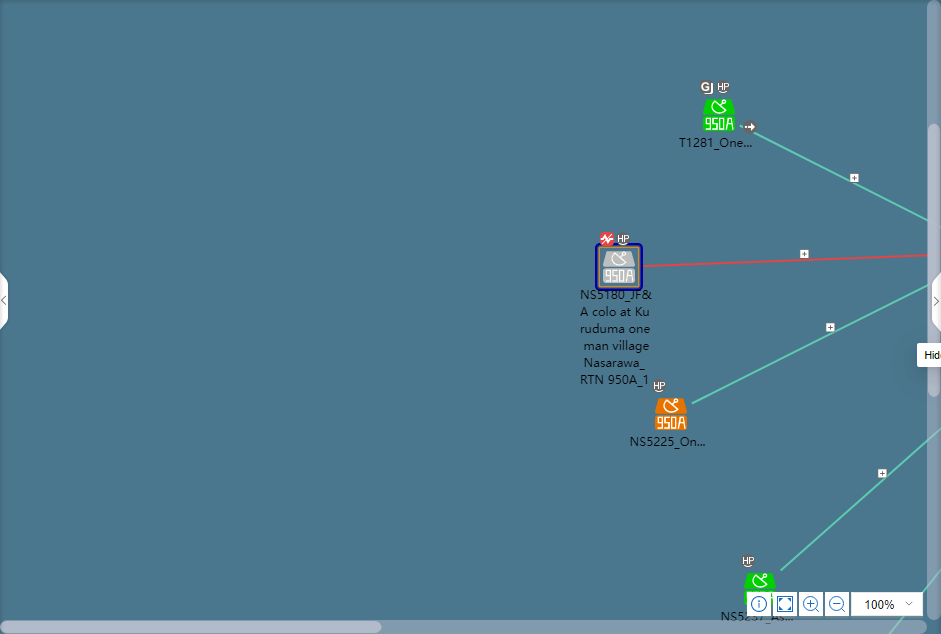Link_Blue: (689, 284, 927, 407), (777, 425, 941, 574), (738, 123, 927, 222), (921, 568, 941, 593)
Link_Red: (642, 254, 927, 269)
RTN_Gray: (600, 250, 635, 285)
RTN_Green: (703, 99, 733, 131), (744, 574, 774, 591)
RTN_Orange: (655, 399, 686, 431)
